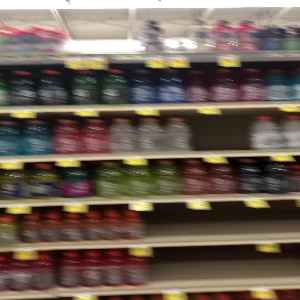void: (153, 244, 300, 283), (147, 201, 300, 237), (187, 109, 250, 152)
